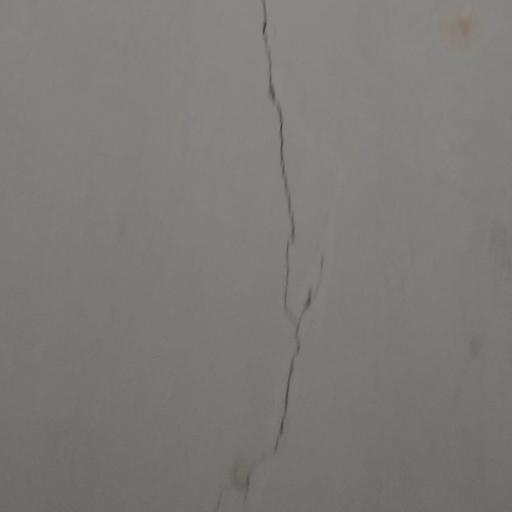minor_crack: (195, 0, 338, 512)
